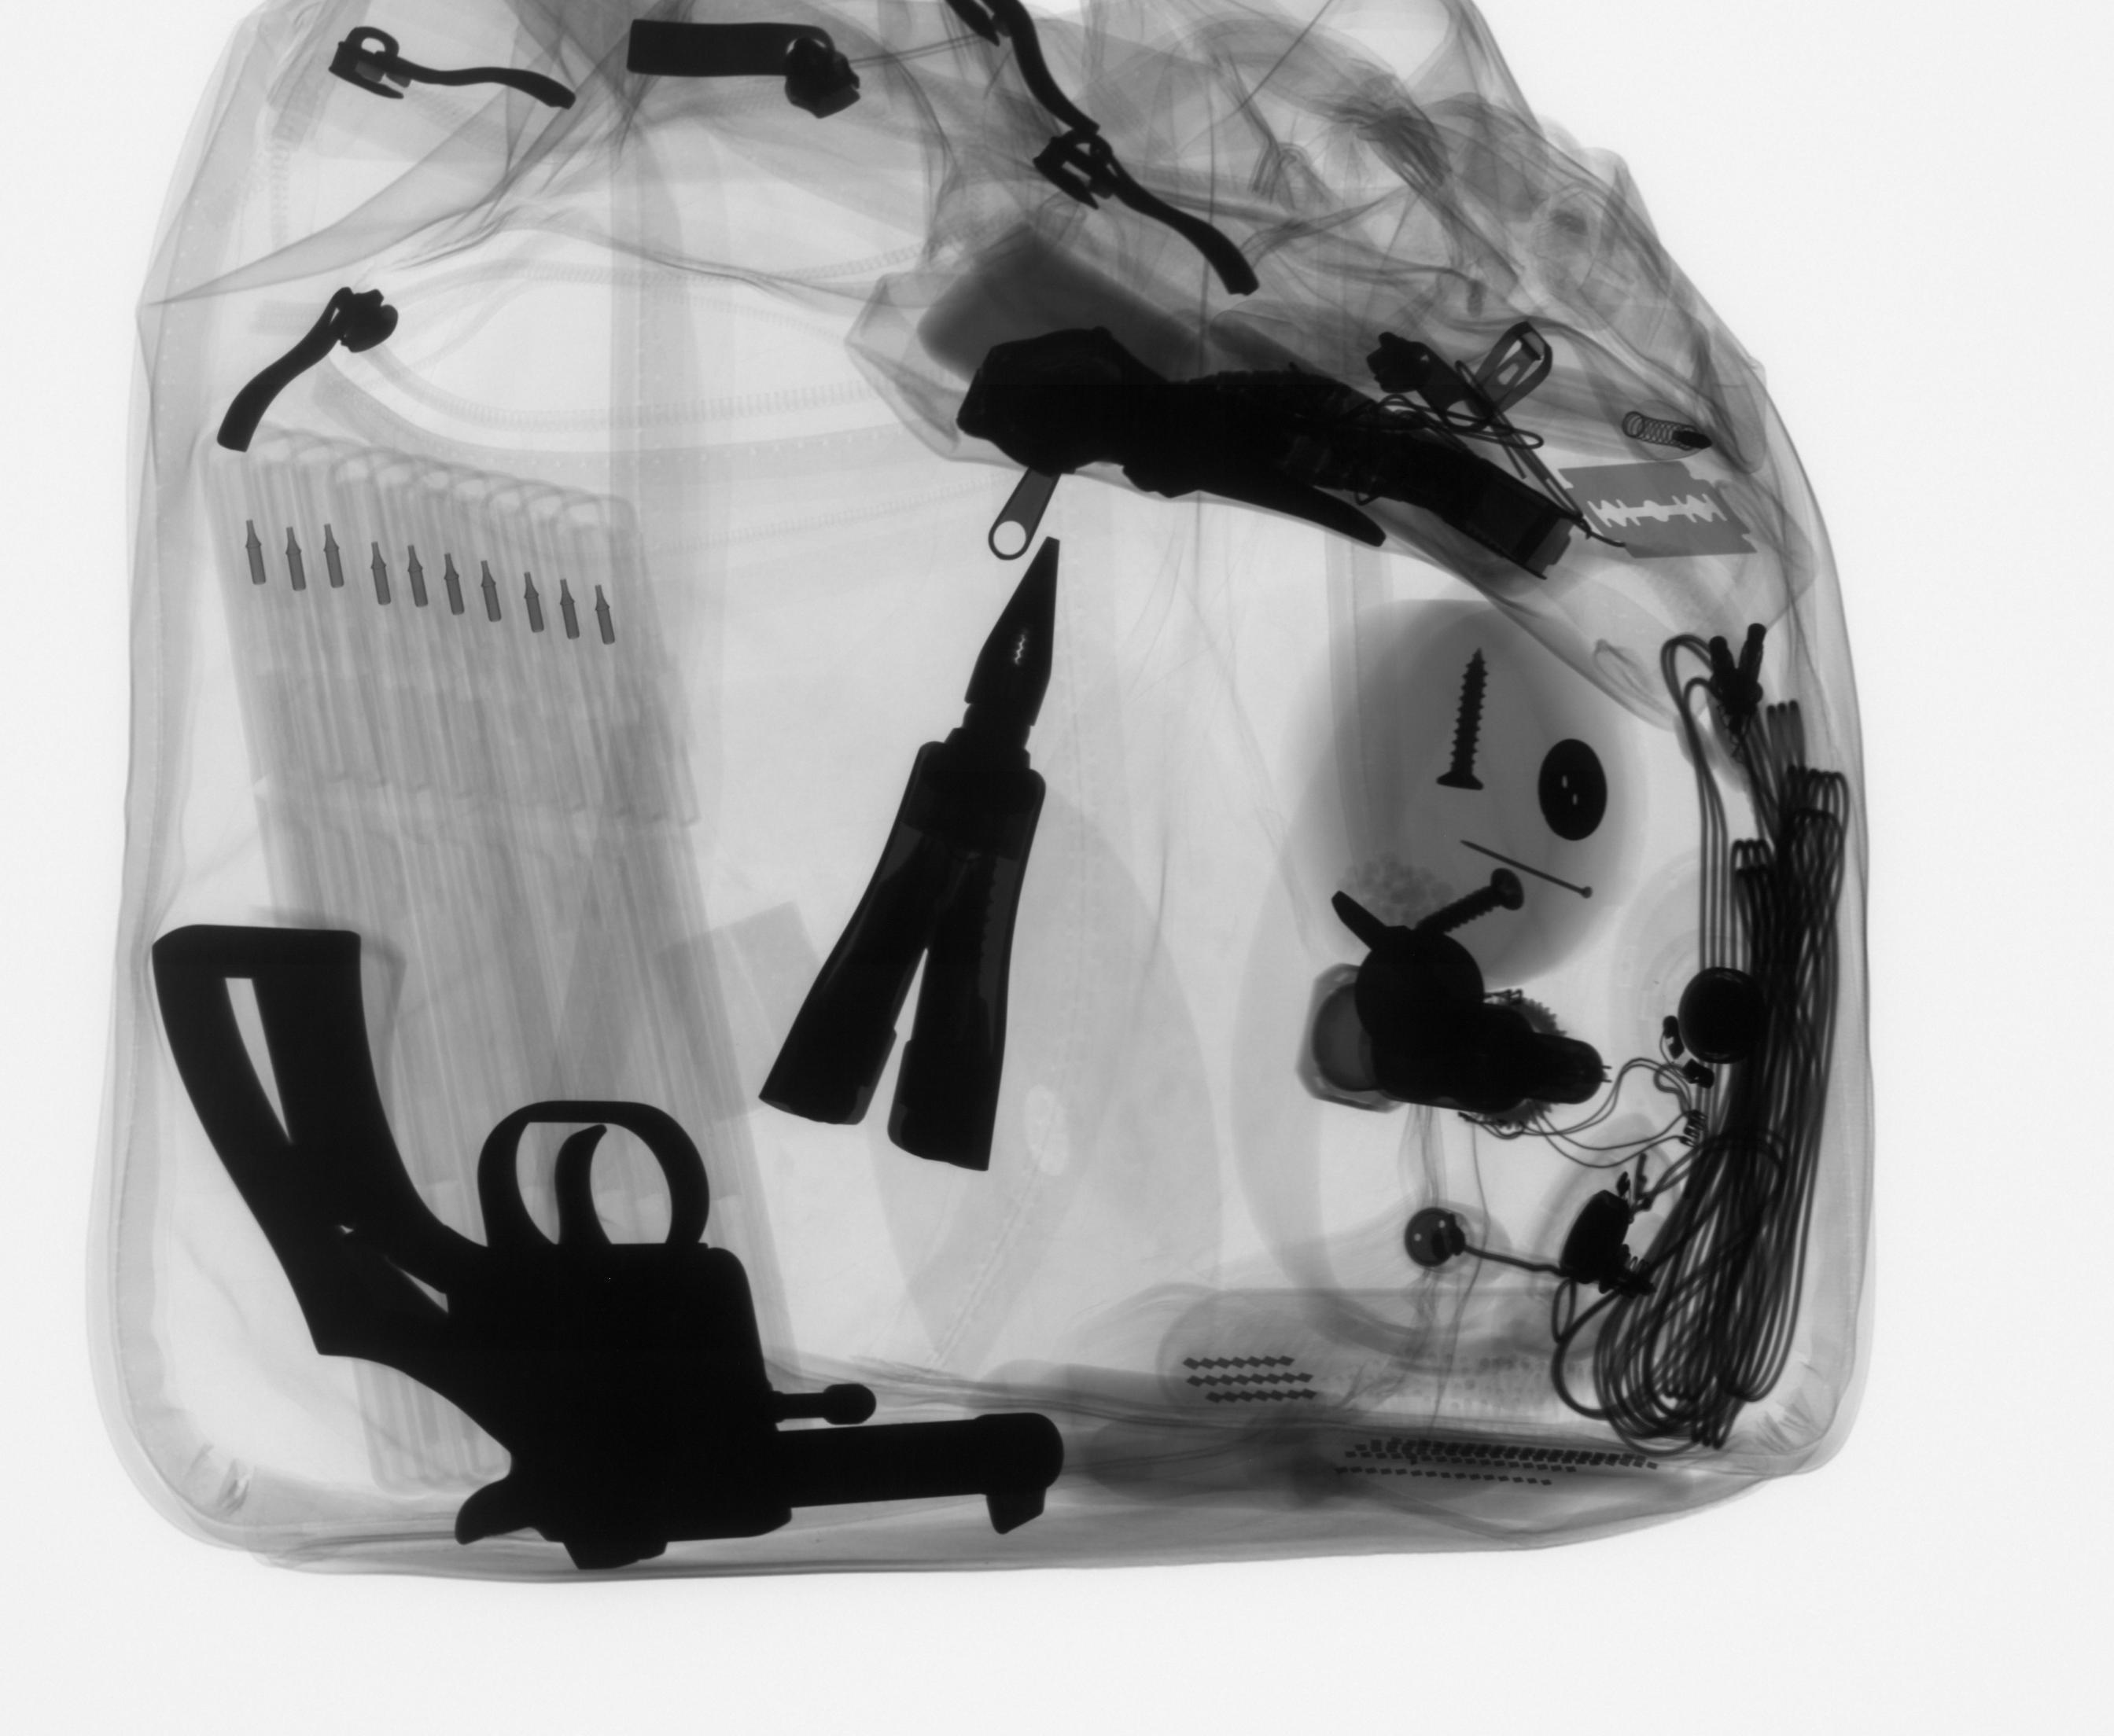Handgun: (132, 913, 1087, 1562)
RazorBlade: (1550, 460, 1780, 588)
